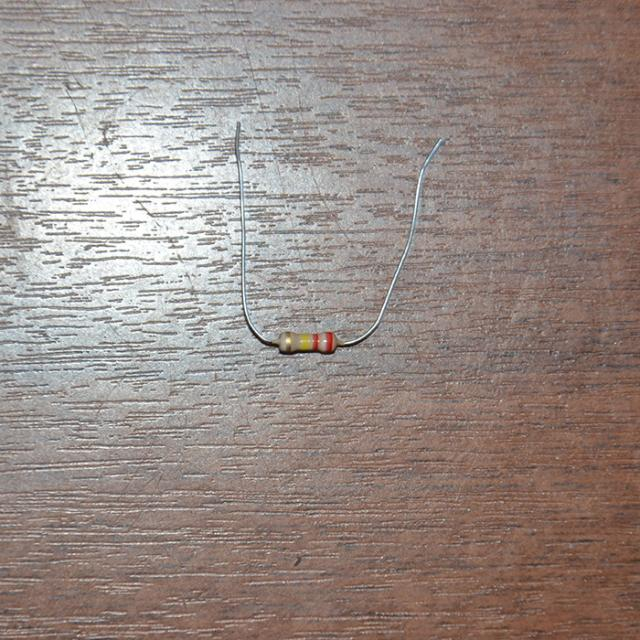gold: (284, 332, 291, 350)
red: (325, 332, 333, 352), (314, 334, 319, 350)
resistor: (270, 323, 344, 361)
yellow: (300, 335, 309, 350)
